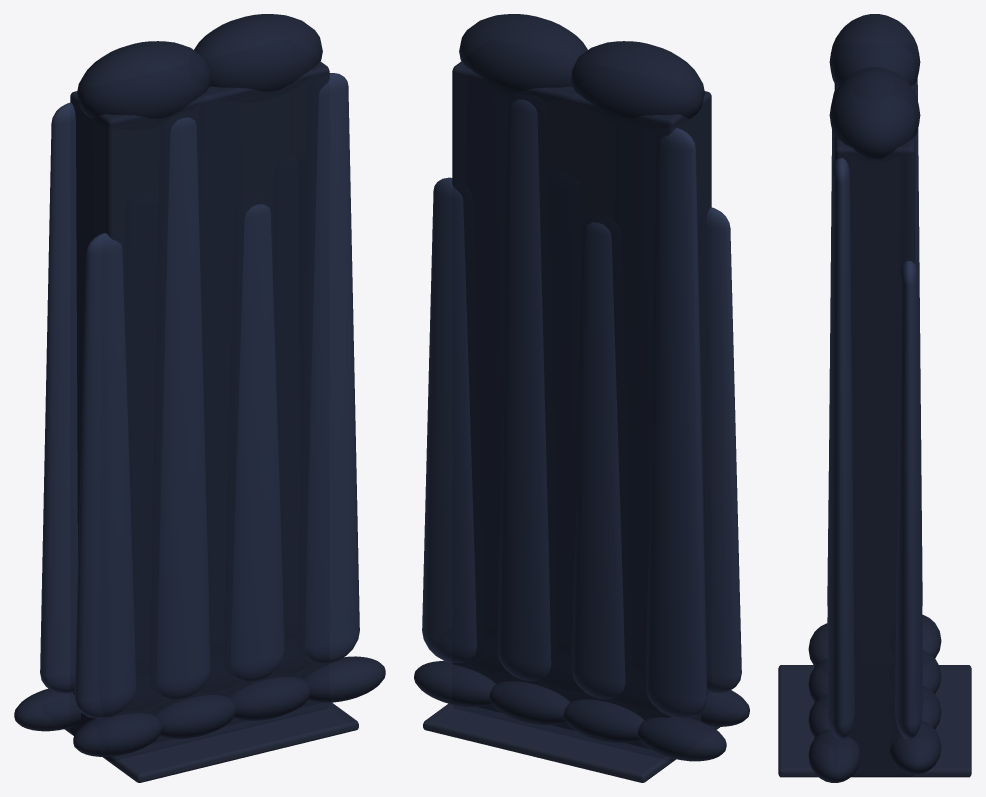
File: ink_wall.glb
3 views of the same model, side by side, from view 1: azimuth 30°, elevation 25°; view 2: azimuth 150°, elevation 25°; view 3: azimuth 270°, elevation 25° (orthographic). The views are drawn at different scales.
Parts seen in each view (by area): view 1: core, drip_3_f, drip_0_f, drip_1_f, drip_2_f, drip_0_b, brush_top_0, spill, brush_top_1, drip_foot_0_f, drip_foot_3_f, drip_foot_2_f (+2 smaller); view 2: core, drip_0_b, drip_2_b, drip_3_b, drip_1_b, drip_0_f, brush_top_0, spill, brush_top_1, drip_foot_0_b, drip_foot_3_b, drip_foot_1_b (+2 smaller); view 3: core, drip_3_f, drip_3_b, spill, brush_top_1, brush_top_0, drip_foot_3_f, drip_foot_3_b, drip_2_b, drip_1_f, drip_0_b, drip_foot_2_f (+5 smaller).
Boxes of the visible parts, left/top/right/bottom form: core: left=70, top=61, right=329, bottom=744; drip_3_f: left=305, top=73, right=359, bottom=663; drip_0_f: left=74, top=232, right=135, bottom=718; drip_1_f: left=156, top=117, right=210, bottom=699; drip_2_f: left=230, top=204, right=284, bottom=681; drip_0_b: left=40, top=102, right=77, bottom=693; brush_top_0: left=77, top=41, right=210, bottom=118; spill: left=64, top=702, right=358, bottom=782; brush_top_1: left=194, top=14, right=322, bottom=91; drip_foot_0_f: left=73, top=713, right=161, bottom=756; drip_foot_3_f: left=303, top=656, right=385, bottom=702; drip_foot_2_f: left=229, top=677, right=310, bottom=720; core: left=452, top=61, right=711, bottom=749; drip_0_b: left=645, top=128, right=707, bottom=718; drip_2_b: left=497, top=99, right=551, bottom=681; drip_3_b: left=422, top=177, right=476, bottom=663; drip_1_b: left=571, top=222, right=625, bottom=699; drip_0_f: left=704, top=207, right=741, bottom=693; brush_top_0: left=571, top=41, right=704, bottom=118; spill: left=423, top=703, right=719, bottom=782; brush_top_1: left=459, top=14, right=587, bottom=91; drip_foot_0_b: left=638, top=717, right=726, bottom=761; drip_foot_3_b: left=414, top=661, right=495, bottom=706; drip_foot_1_b: left=563, top=699, right=644, bottom=743; core: left=834, top=83, right=915, bottom=774; drip_3_f: left=827, top=158, right=854, bottom=739; drip_3_b: left=895, top=260, right=922, bottom=739; spill: left=778, top=665, right=971, bottom=777; brush_top_1: left=829, top=67, right=920, bottom=159; brush_top_0: left=829, top=14, right=920, bottom=86; drip_foot_3_f: left=808, top=729, right=860, bottom=782; drip_foot_3_b: left=890, top=721, right=941, bottom=774; drip_2_b: left=915, top=133, right=922, bottom=676; drip_1_f: left=827, top=91, right=834, bottom=641; drip_0_b: left=915, top=78, right=922, bottom=605; drip_foot_2_f: left=808, top=694, right=830, bottom=737.
Size of the model in its own units: 1.47 by 2.96 by 0.768.
